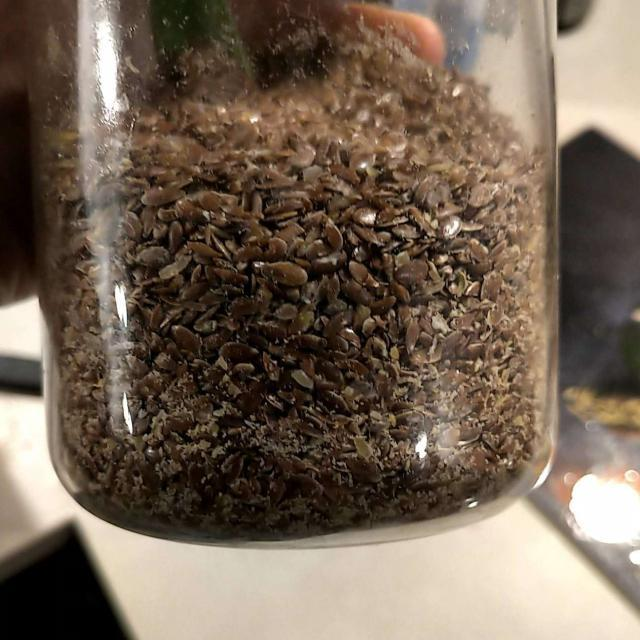linseeds: (52, 13, 535, 524)
